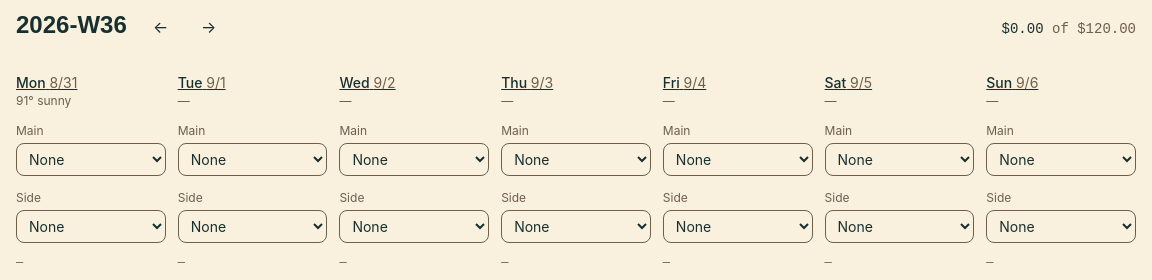
the week grid › disables only the day being saved
Select "Chicken Fajitas" in the dropdown labelled "Main" below "91° sunny" at (91, 160), box left=16, top=143, right=166, bottom=176
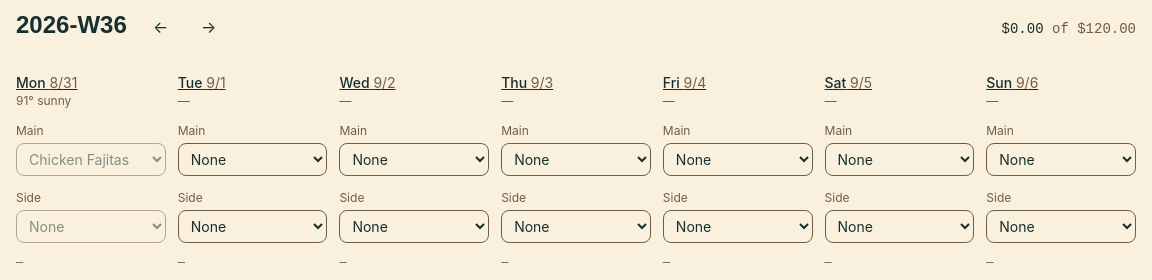
Expected: the dropdown labelled "Main" below "Tue" is enabled, left=178, top=143, right=327, bottom=176
Now the dropdown labelled "Main" below "91° sunny" is disabled, box left=16, top=143, right=166, bottom=176
